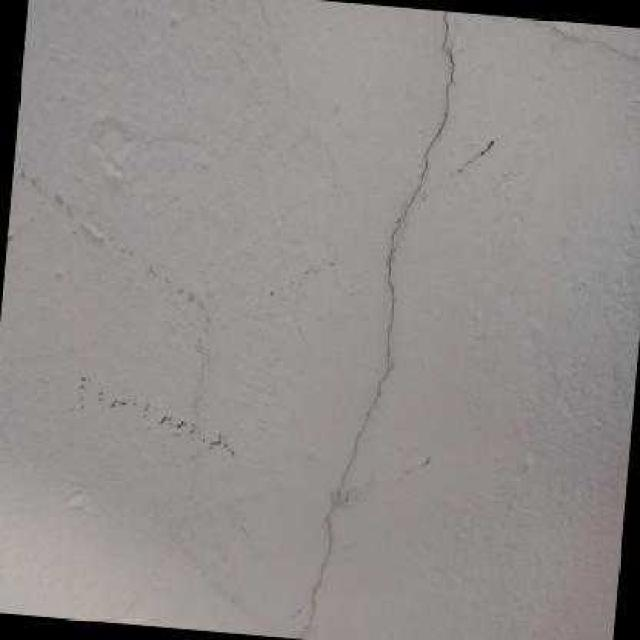D00: (295, 9, 456, 640)
